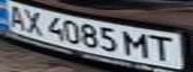0: (60, 18, 81, 46)
4: (42, 15, 66, 42)
5: (100, 25, 121, 54)
8: (78, 20, 100, 50)
A: (3, 2, 30, 30)
M: (124, 29, 151, 58)
T: (145, 33, 181, 62)
X: (18, 7, 48, 36)
